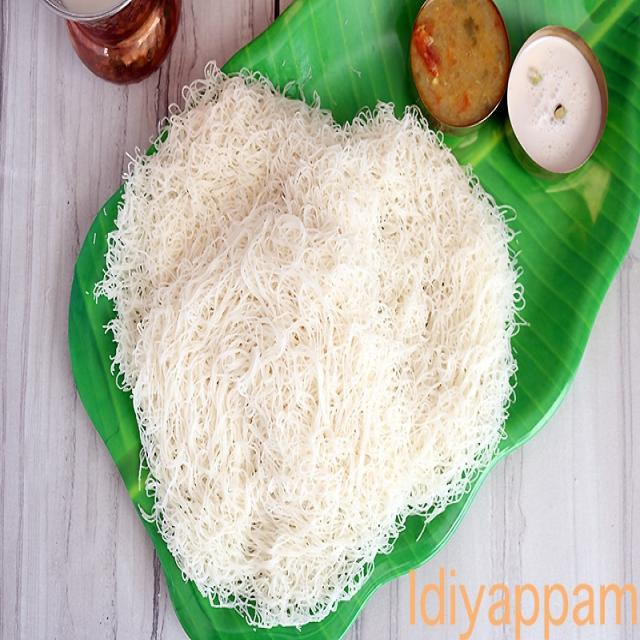CURRY: (409, 0, 507, 133)
IDIYAPPAM: (89, 51, 521, 634)
SWEET: (508, 39, 602, 174)
